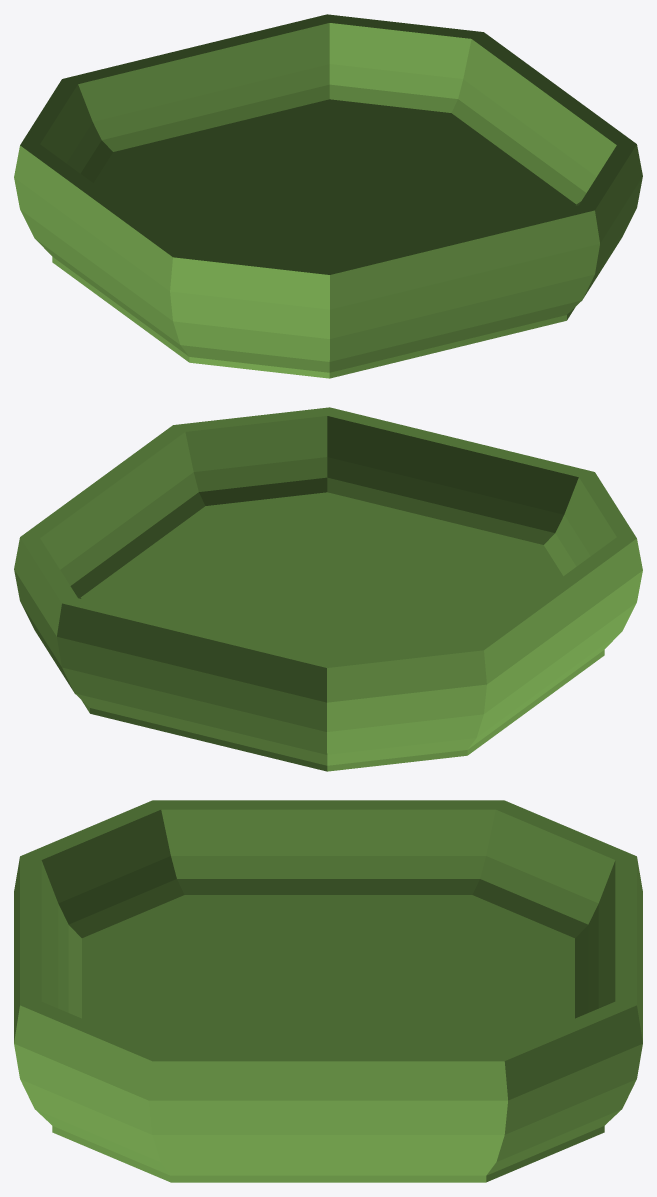
File: Octagonal Plate 2.fbx
3 views of the same model, one above another, from view 1: azimuth 30°, elevation 25°; view 2: azimuth 150°, elevation 25°; view 3: azimuth 270°, elevation 25° (orthographic). The views are drawn at different scales.
Visible parts, largest first — view 1: Node 0; view 2: Node 0; view 3: Node 0.
Boxes of the visible parts, x1,y1,x2,y2 form: Node 0: (14, 14, 642, 378); Node 0: (14, 407, 642, 771); Node 0: (14, 800, 642, 1182).
Bounding box in the file's own units: 0.3466 × 0.0821 × 0.3466.
